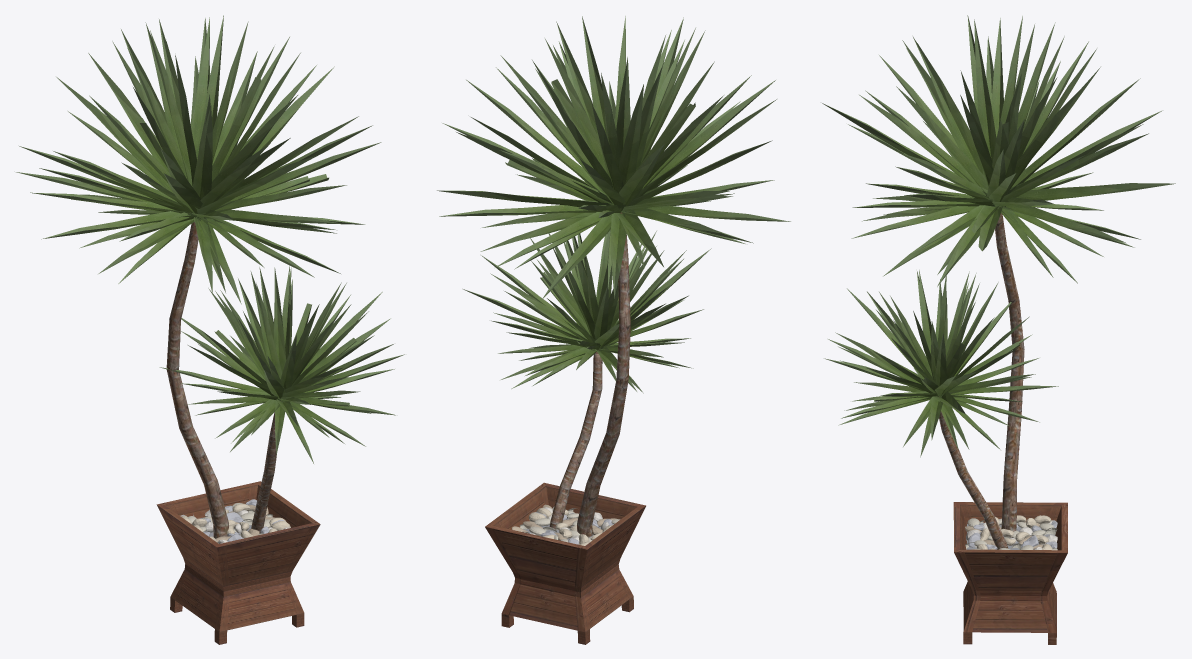
Rendered from by-yuccaplant.glb.
3 renders of one model, left to right at view 1: azimuth 30°, elevation 25°; view 2: azimuth 150°, elevation 25°; view 3: azimuth 270°, elevation 25°, orthographic. The views are drawn at different scales.
Parts seen in each view (by area): view 1: Spike_plant_1_Plane.1071, Spike_plant_2_Plane.1169, Pot_1_Plane.1171, Spike_trunk_2_Cylinder, Rock_0_Sphere.000, Spike_trunk_1_Cylinder.001; view 2: Spike_plant_1_Plane.1071, Pot_1_Plane.1171, Spike_plant_2_Plane.1169, Spike_trunk_2_Cylinder, Rock_0_Sphere.000, Spike_trunk_1_Cylinder.001; view 3: Spike_plant_1_Plane.1071, Spike_plant_2_Plane.1169, Pot_1_Plane.1171, Spike_trunk_2_Cylinder, Rock_0_Sphere.000, Spike_trunk_1_Cylinder.001.
Boxes of the visible parts, x1=… form: Spike_plant_1_Plane.1071: x1=16, y1=15, x2=381, y2=304; Spike_plant_2_Plane.1169: x1=159, y1=266, x2=404, y2=463; Pot_1_Plane.1171: x1=156, y1=481, x2=320, y2=644; Spike_trunk_2_Cylinder: x1=166, y1=222, x2=228, y2=538; Rock_0_Sphere.000: x1=180, y1=499, x2=290, y2=543; Spike_trunk_1_Cylinder.001: x1=251, y1=401, x2=281, y2=533; Spike_plant_1_Plane.1071: x1=437, y1=16, x2=790, y2=299; Pot_1_Plane.1171: x1=485, y1=482, x2=645, y2=644; Spike_plant_2_Plane.1169: x1=463, y1=230, x2=711, y2=393; Spike_trunk_2_Cylinder: x1=577, y1=212, x2=630, y2=537; Rock_0_Sphere.000: x1=512, y1=504, x2=620, y2=545; Spike_trunk_1_Cylinder.001: x1=549, y1=352, x2=602, y2=529; Spike_plant_1_Plane.1071: x1=822, y1=15, x2=1175, y2=286; Spike_plant_2_Plane.1169: x1=824, y1=270, x2=1058, y2=457; Pot_1_Plane.1171: x1=953, y1=502, x2=1067, y2=644; Spike_trunk_2_Cylinder: x1=995, y1=213, x2=1024, y2=537; Rock_0_Sphere.000: x1=965, y1=515, x2=1057, y2=550; Spike_trunk_1_Cylinder.001: x1=939, y1=396, x2=1008, y2=549.
Bounding box in the file's own units: 1.08 × 1.8 × 1.02.
10 materials, 3 textured.
